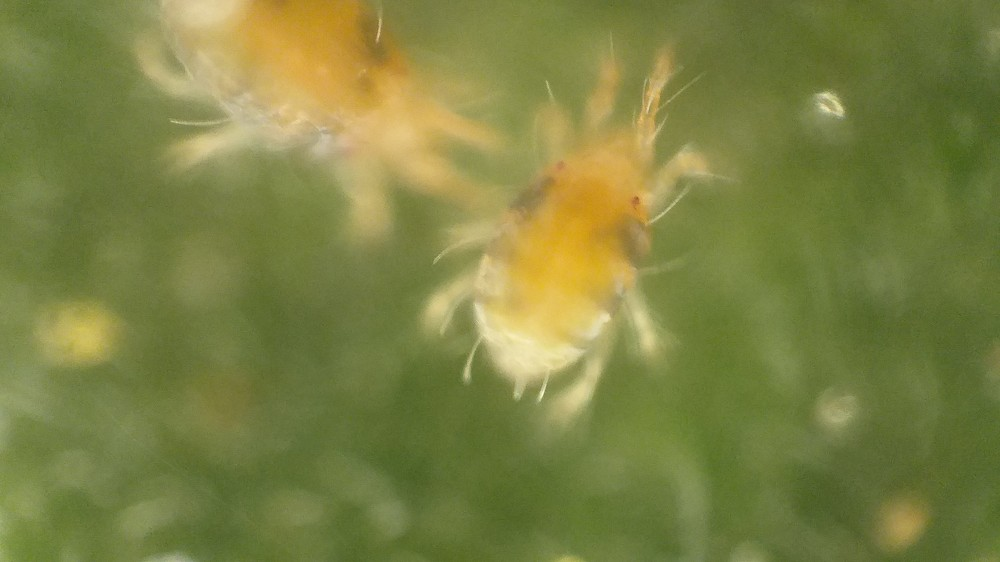Aracnido Rojo: (436, 42, 725, 427), (130, 1, 507, 231)
